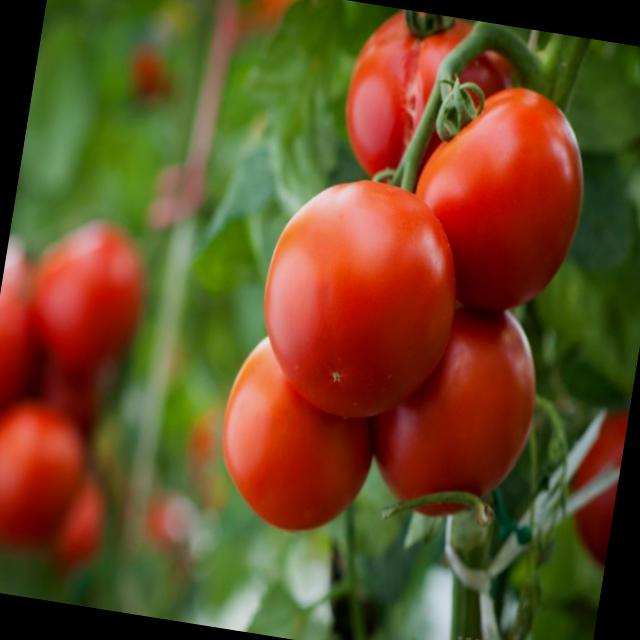tomato: (247, 167, 480, 430), (414, 83, 595, 306)
